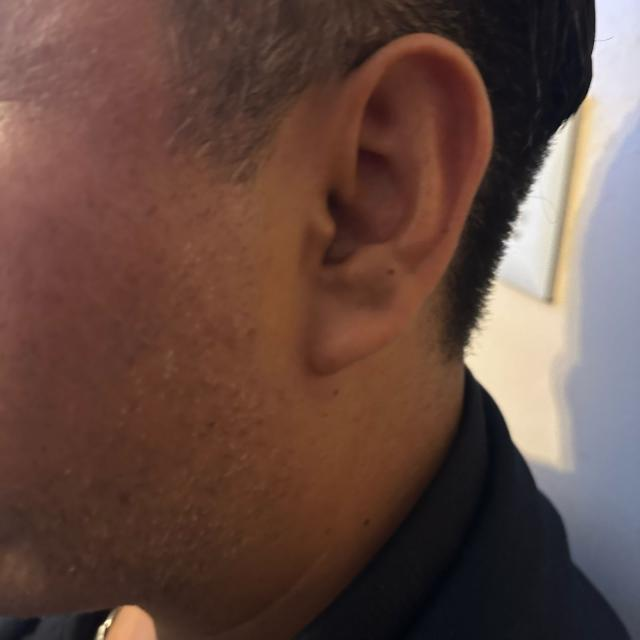ear: (304, 31, 492, 374)
